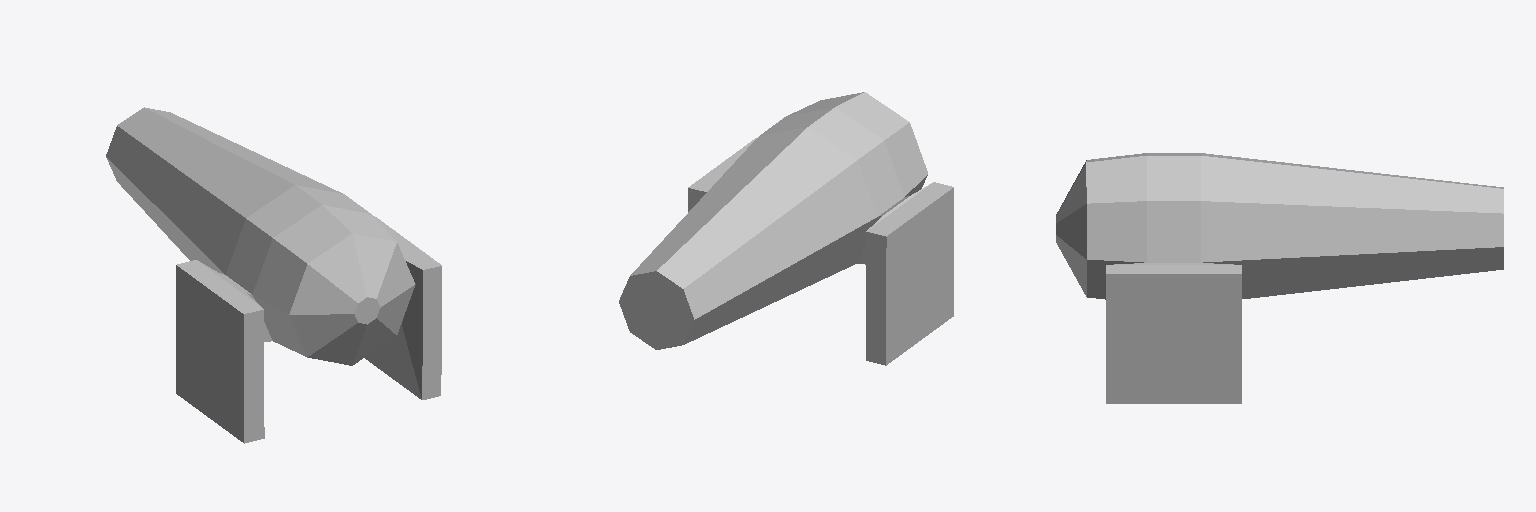
Rendered from tempcannonmodel.obj.
3 views of the same model, side by side, from view 1: azimuth 30°, elevation 25°; view 2: azimuth 150°, elevation 25°; view 3: azimuth 270°, elevation 25° (orthographic).
Visible parts, largest first — view 1: obj.cannon.000_cannon; view 2: obj.cannon.000_cannon; view 3: obj.cannon.000_cannon.
Boxes of the visible parts, box(x1,y1,x2,y2) form: obj.cannon.000_cannon: box(106, 107, 441, 443); obj.cannon.000_cannon: box(619, 92, 953, 365); obj.cannon.000_cannon: box(1056, 153, 1503, 403).
Size of the model in its own units: 0.7524 by 0.7254 by 1.47.